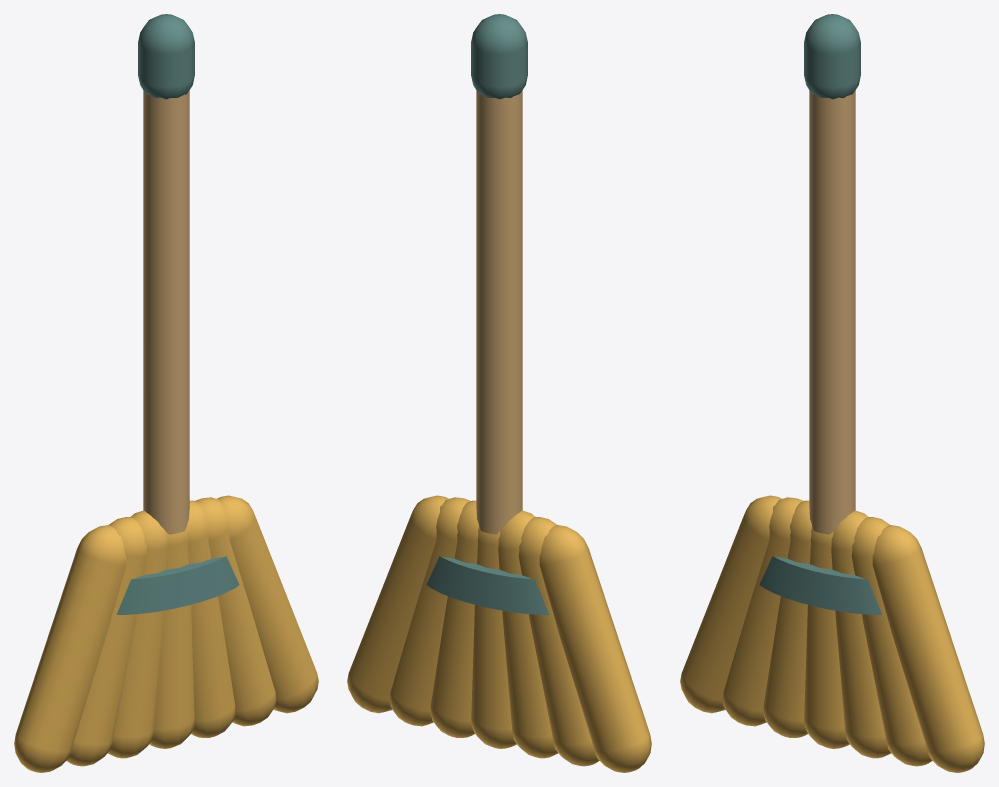
The model's file is broom.glb.
The picture shows the model from 3 angles, left to right: view 1: azimuth 30°, elevation 25°; view 2: azimuth 150°, elevation 25°; view 3: azimuth 330°, elevation 25°; orthographic projection.
Visible parts, largest first — view 1: Broom_shaft, Broom_bristle_0, Broom_bristle_6, Broom_bristle_1, Broom_bristle_5, Broom_bristle_2, Broom_bristle_4, Broom_bristle_3, Broom_binding, Broom_cap; view 2: Broom_shaft, Broom_bristle_0, Broom_bristle_6, Broom_bristle_1, Broom_bristle_5, Broom_bristle_2, Broom_bristle_4, Broom_bristle_3, Broom_binding, Broom_cap; view 3: Broom_shaft, Broom_bristle_6, Broom_bristle_0, Broom_bristle_5, Broom_bristle_1, Broom_bristle_4, Broom_bristle_2, Broom_bristle_3, Broom_binding, Broom_cap.
Part boxes in pixels (x1,y1,x2,y2): Broom_shaft: (143,90,189,534); Broom_bristle_0: (14,525,126,772); Broom_bristle_6: (217,495,318,713); Broom_bristle_1: (66,517,147,766); Broom_bristle_5: (195,497,276,726); Broom_bristle_2: (107,510,167,758); Broom_bristle_4: (187,500,235,737); Broom_bristle_3: (149,526,194,748); Broom_binding: (116,556,239,614); Broom_cap: (138,14,194,99); Broom_shaft: (476,90,522,534); Broom_bristle_0: (539,525,651,772); Broom_bristle_6: (347,495,448,713); Broom_bristle_1: (518,517,599,766); Broom_bristle_5: (389,497,470,726); Broom_bristle_2: (498,510,558,758); Broom_bristle_4: (430,500,478,737); Broom_bristle_3: (471,526,516,748); Broom_binding: (426,556,549,614); Broom_cap: (471,14,527,99); Broom_shaft: (809,90,855,534); Broom_bristle_6: (872,525,984,772); Broom_bristle_0: (680,495,781,713); Broom_bristle_5: (851,517,932,766); Broom_bristle_1: (722,497,803,726); Broom_bristle_4: (831,510,891,758); Broom_bristle_2: (763,500,811,737); Broom_bristle_3: (804,526,849,748); Broom_binding: (759,556,882,614); Broom_cap: (804,14,860,99).
Size of the model in its own units: 0.6673 by 1.56 by 0.153.
